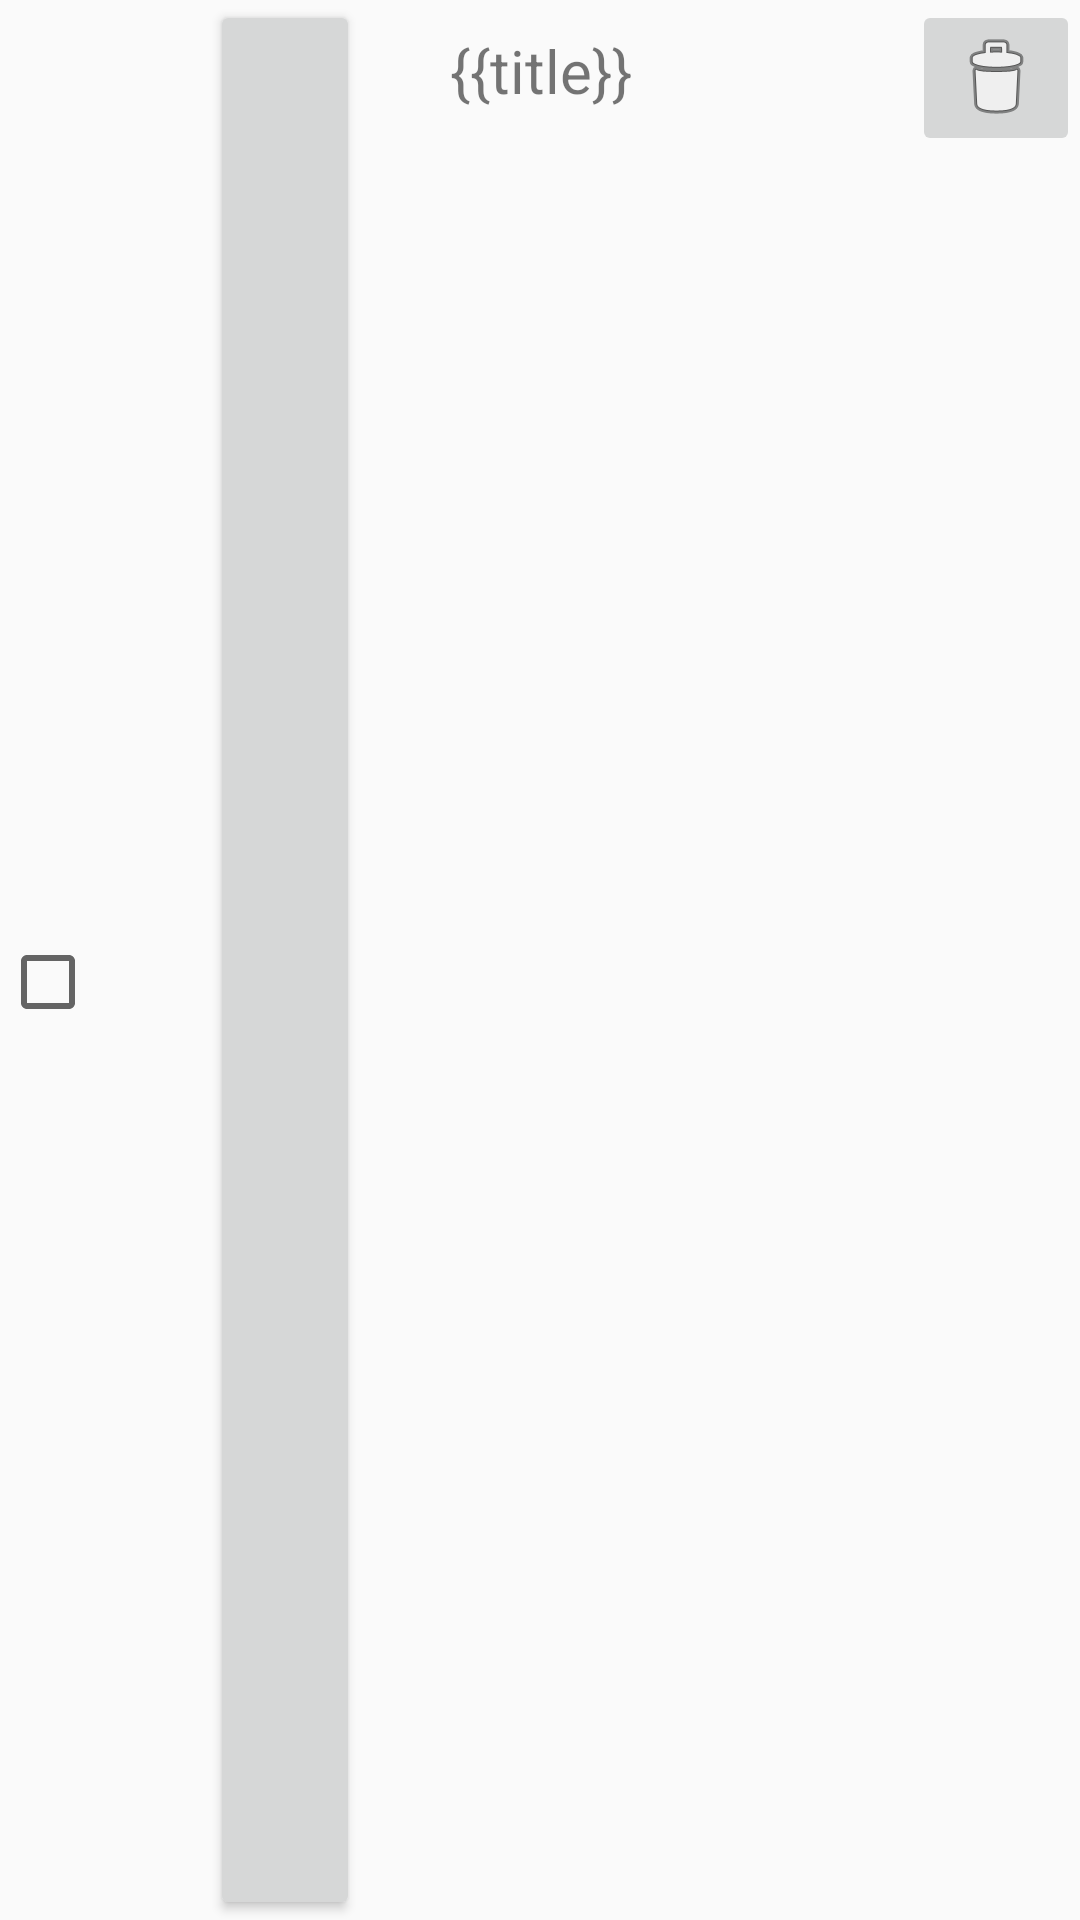

Point at icon controls on the screen. Image size 1080*1920, points as (x=x, y=y).
delete: (x=996, y=78)
